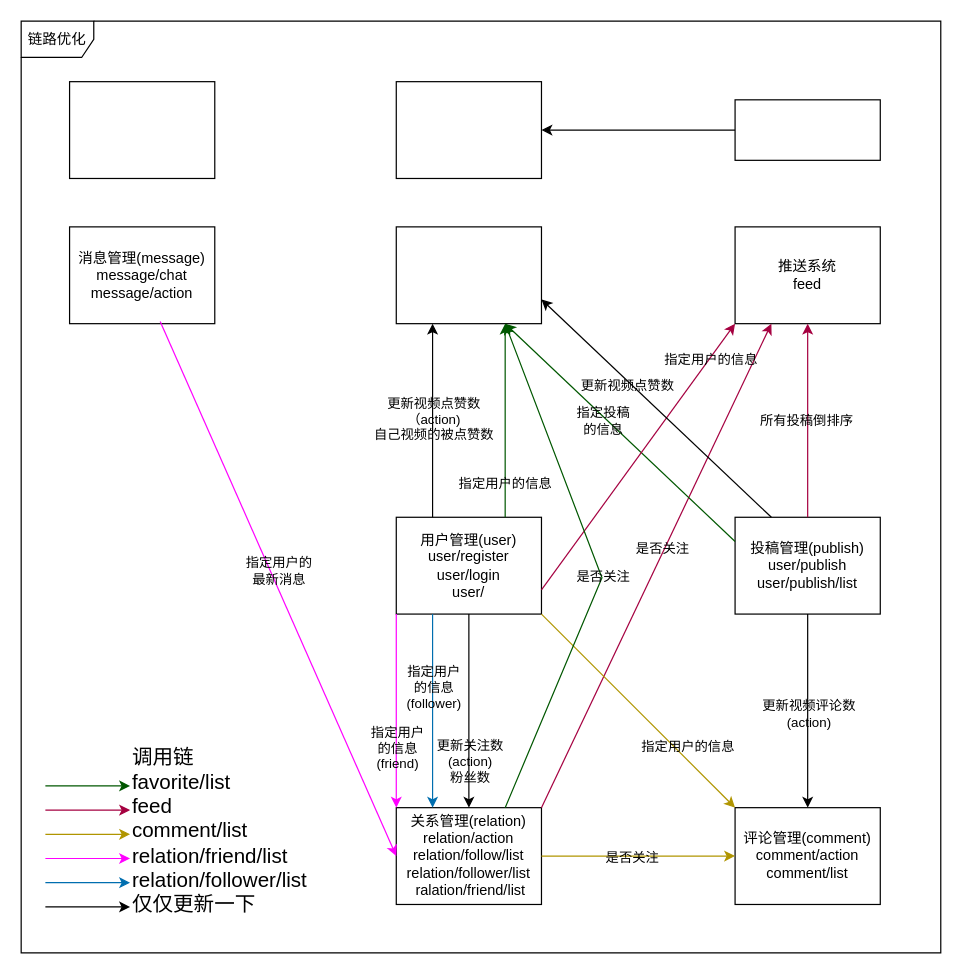
Image size: 962x974. Some labels were removed from this diagram. Each missing label, with the centre of its shape:
"api网关 调用下面的 所有服务" belongs at [468,129].
"consul 服务注册" belongs at [807,129].
"媒体存储(storage) 存储视频、头像" belongs at [141,129].
"点赞管理(favorite) favorite/action favorite/list" belongs at [468,275].
